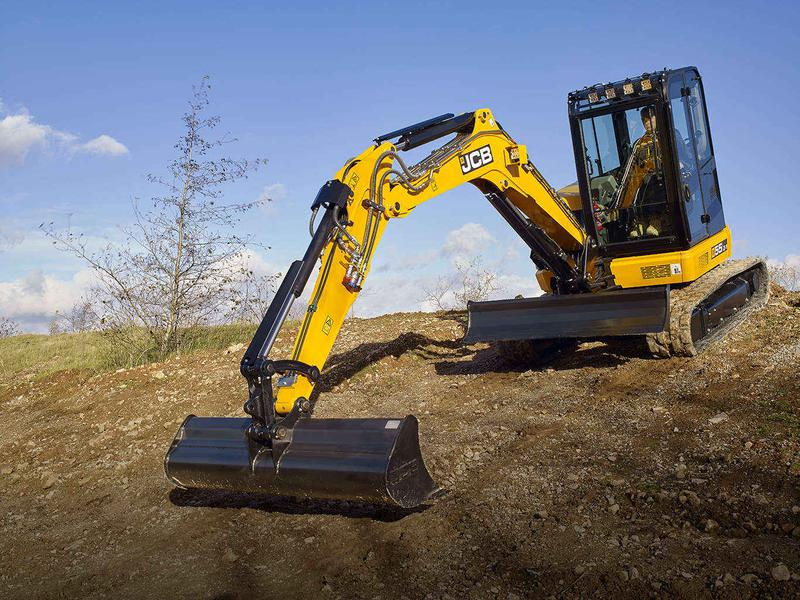shovel: (155, 61, 772, 510)
